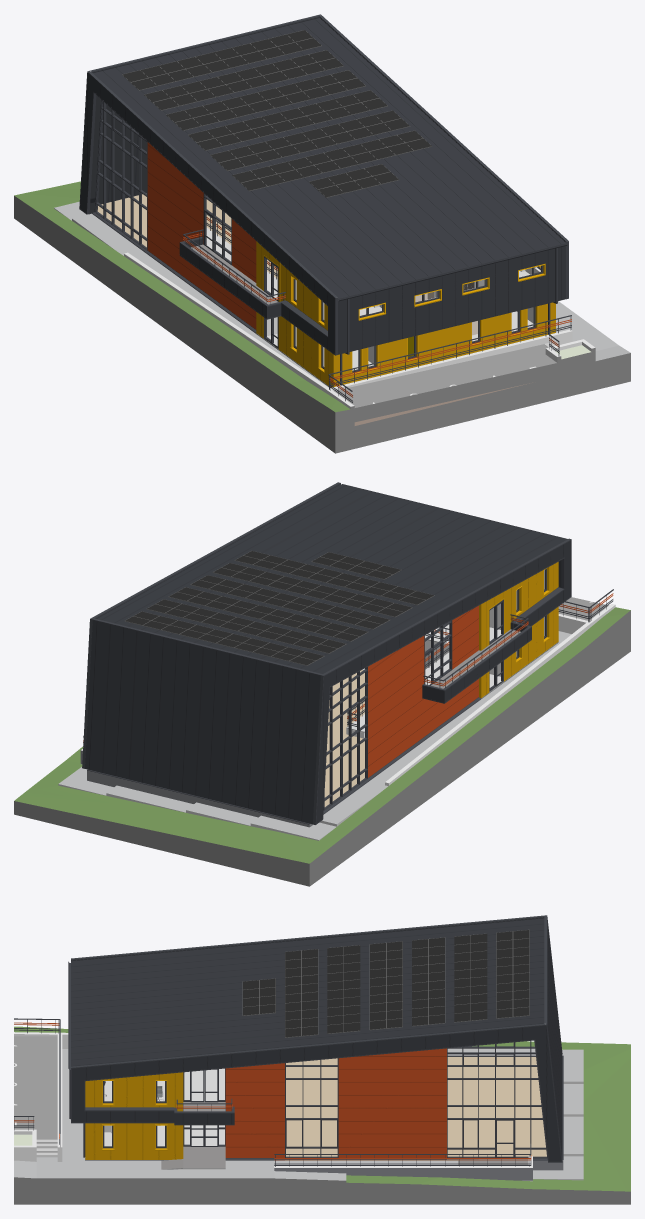
The model's file is Sala-sport-WEB.glb.
3 views of the same model, one above another, from view 1: azimuth 30°, elevation 25°; view 2: azimuth 150°, elevation 25°; view 3: azimuth 270°, elevation 25° (orthographic). The views are drawn at different scales.
Visible parts, largest first — view 1: RWO_Optimized_1deg.002; view 2: RWO_Optimized_1deg.002; view 3: RWO_Optimized_1deg.002.
Boxes of the visible parts, box(x1,y1,x2,y2) form: RWO_Optimized_1deg.002: box(14, 14, 630, 453); RWO_Optimized_1deg.002: box(14, 482, 630, 886); RWO_Optimized_1deg.002: box(14, 915, 630, 1204).
Size of the model in its own units: 18.54 by 10.29 by 34.91.
Materials: 64 (4 with a texture image).
